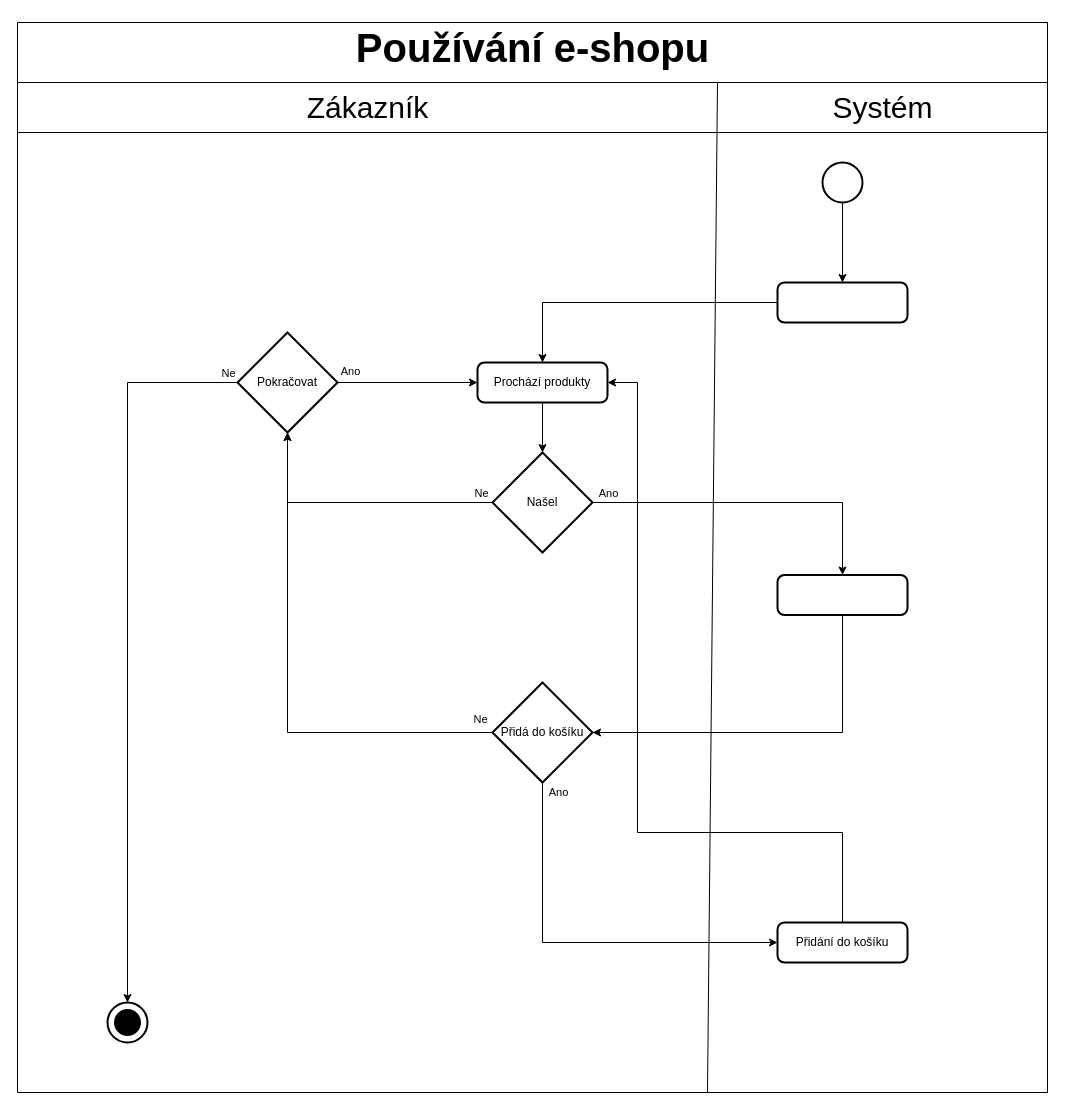
The diagram is 1066 pixels wide and 1111 high, and some of its shapes have lost their labels. Here are the shapes that lost their labels. From the top down, the centre of each, then its label:
At (x=842, y=302): "Zobrazí produkty".
At (x=842, y=595): "Zobrazí detaily".
